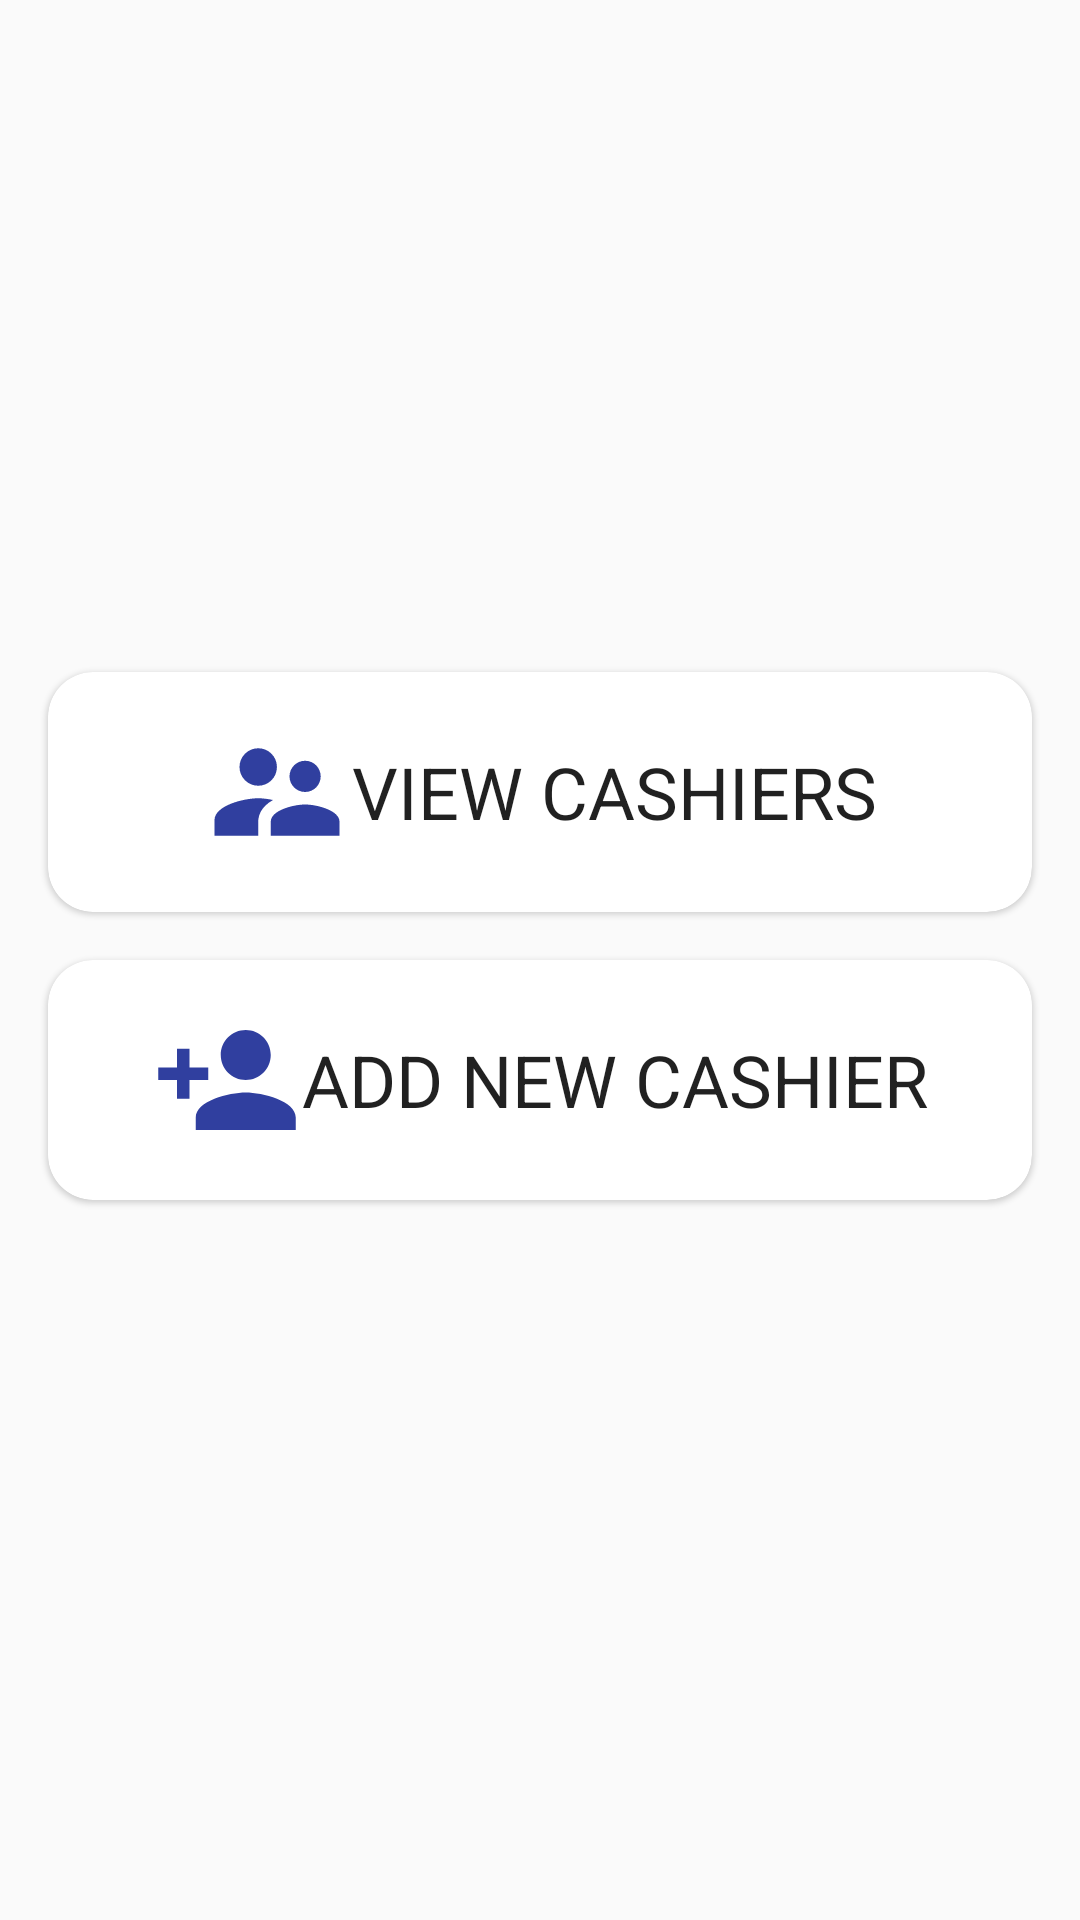

Named icons in this screenshot (1080 x 1920) and their bounding boxes, bbox=[x1, y1, x2, y2]:
person add: bbox=[158, 1030, 296, 1130]
